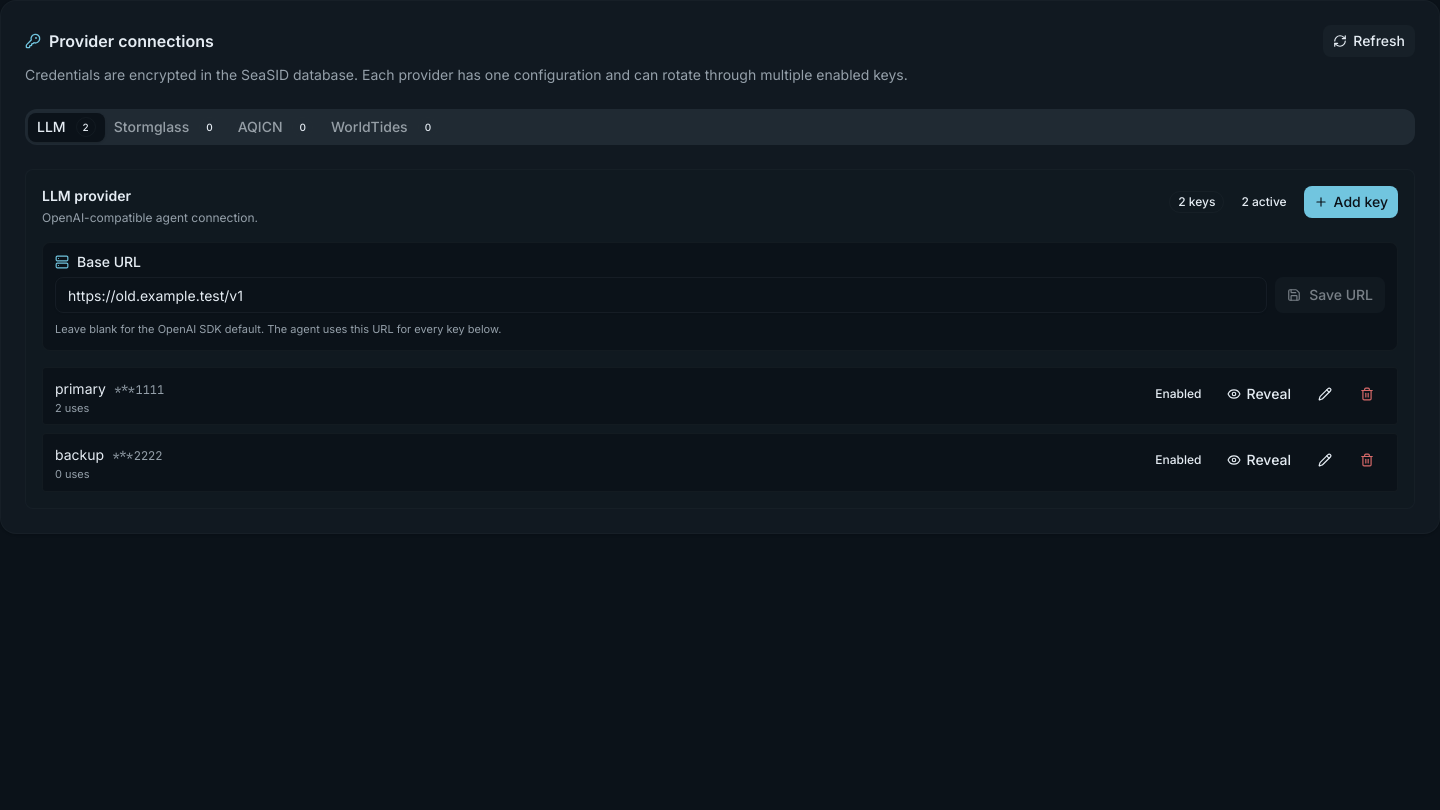
Test case: ApiKeysAdmin › edits and saves the shared LLM base URL with a busy indicator
Replace the text in the field with test id "llm-base-url" with "https://new.example.test/v1" at point(661, 295), box [55, 277, 1267, 313]
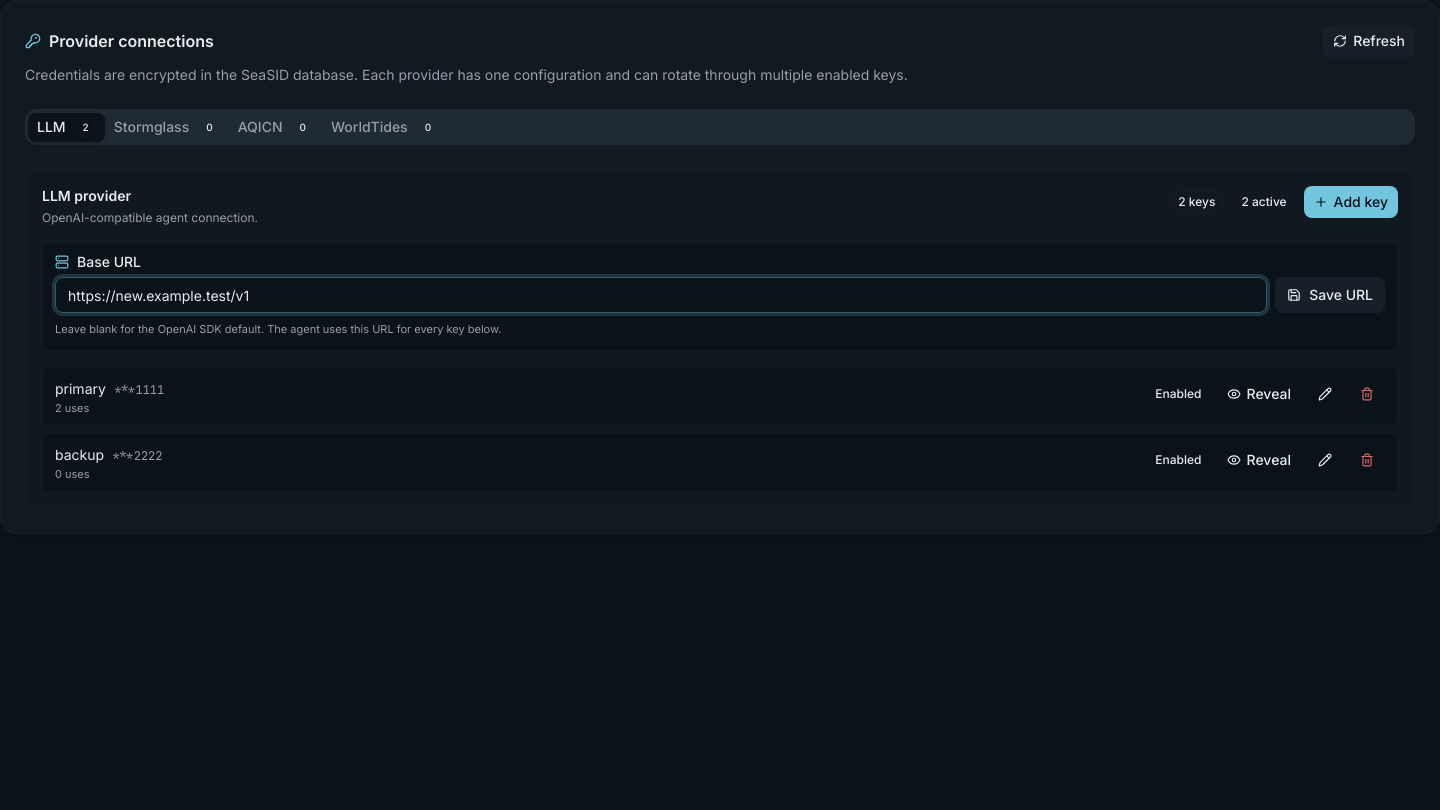
Click the button with test id "llm-base-url-save" at point(1330, 295), box [1275, 277, 1385, 313]
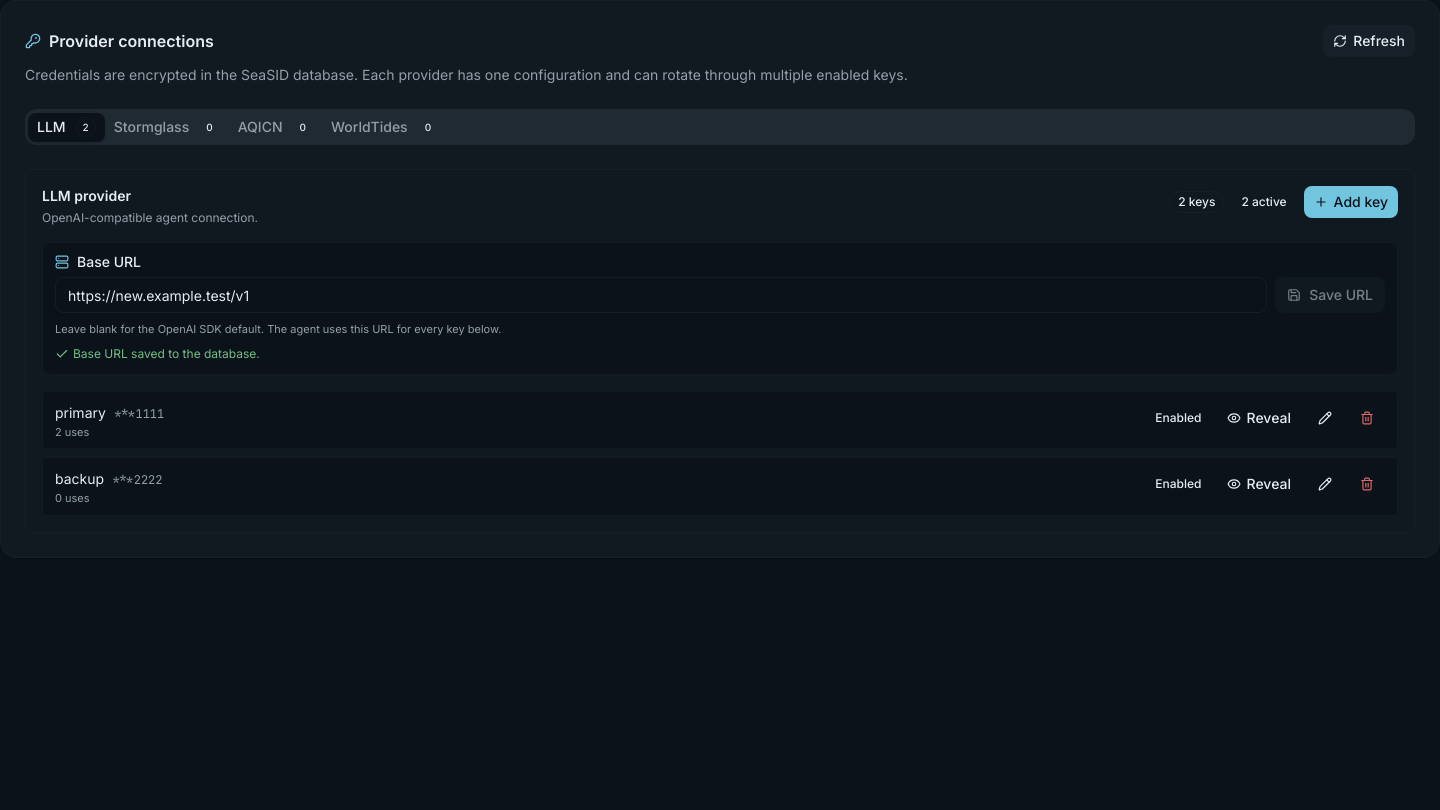
Now the button with test id "llm-base-url-save" is disabled, box [1275, 277, 1385, 313]
Now the element with test id "llm-base-url-saved" is shown, box [55, 346, 260, 360]
